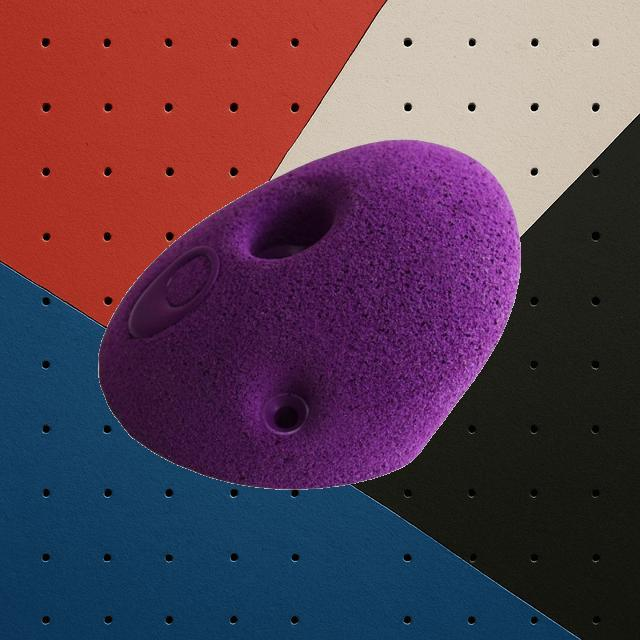Jug: (97, 138, 521, 490)
